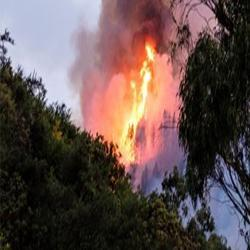fire: (136, 41, 161, 85), (136, 89, 151, 133), (119, 132, 135, 156)
